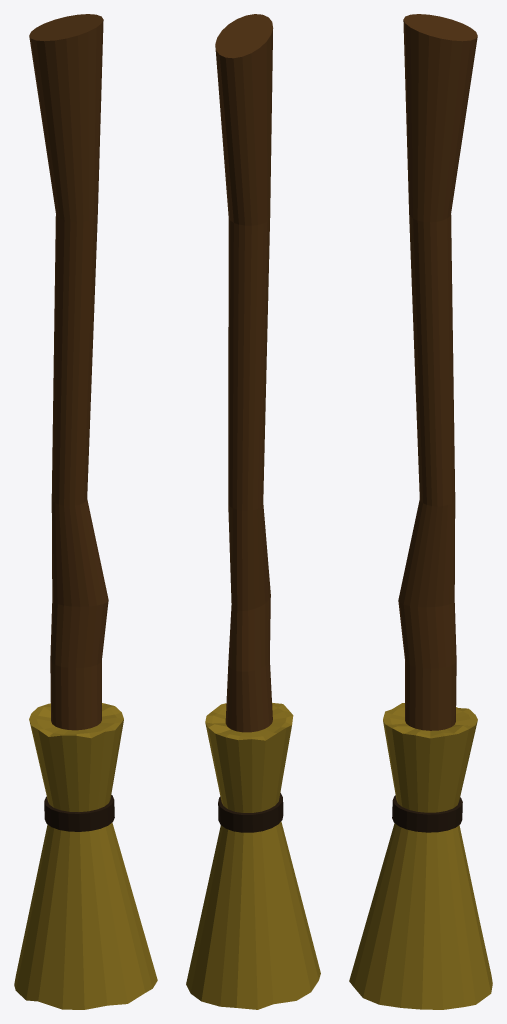
The model's file is broom.fbx.
3 views of the same model, side by side, from view 1: azimuth 90°, elevation 25°; view 2: azimuth 150°, elevation 25°; view 3: azimuth 270°, elevation 25° (orthographic).
Parts seen in each view (by area): view 1: Broom; view 2: Broom; view 3: Broom.
Part boxes in pixels (box(x1,y1,x2,y2)): Broom: box(14, 14, 157, 1009); Broom: box(186, 14, 320, 1009); Broom: box(349, 14, 492, 1009).
Size of the model in its own units: 34.94 by 279 by 37.58.
